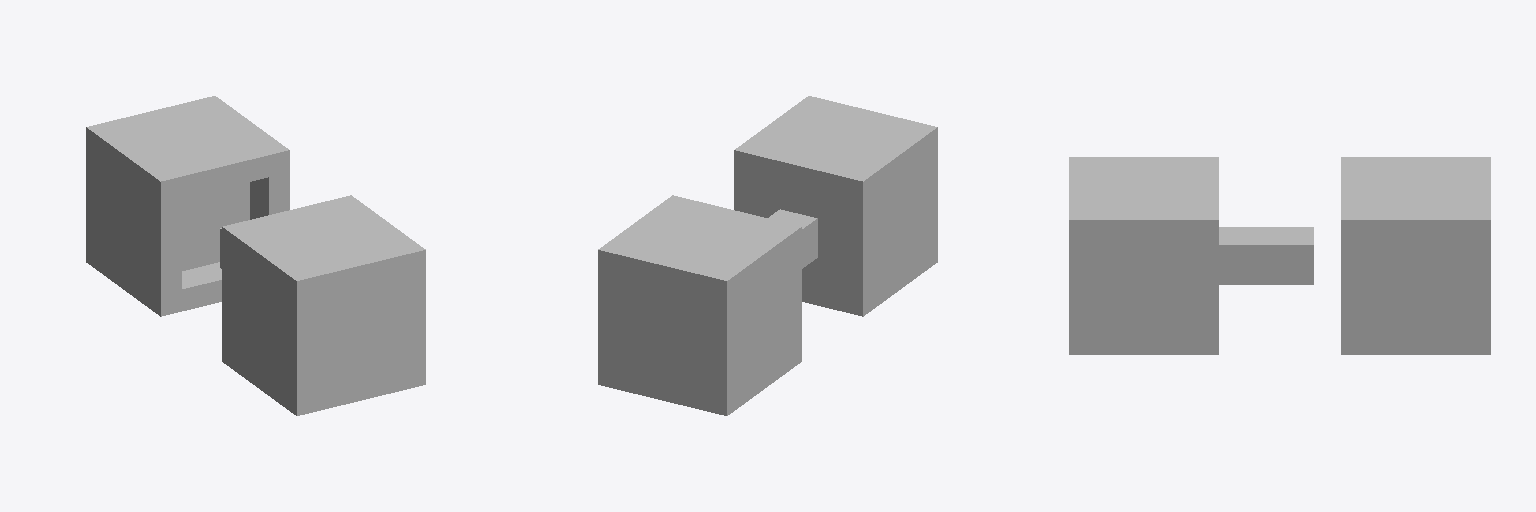
Rendered from DoubleMesh.obj.
The picture shows the model from 3 angles: view 1: azimuth 30°, elevation 25°; view 2: azimuth 150°, elevation 25°; view 3: azimuth 270°, elevation 25°; orthographic projection.
Parts seen in each view (by area): view 1: Cube_Cube.001, Cube.001_Cube.002; view 2: Cube.001_Cube.002, Cube_Cube.001; view 3: Cube_Cube.001, Cube.001_Cube.002.
Part boxes in pixels (bbox=[...]): Cube_Cube.001: bbox=[220, 195, 425, 415]; Cube.001_Cube.002: bbox=[86, 96, 289, 316]; Cube.001_Cube.002: bbox=[598, 195, 801, 415]; Cube_Cube.001: bbox=[734, 96, 937, 316]; Cube_Cube.001: bbox=[1069, 157, 1313, 354]; Cube.001_Cube.002: bbox=[1341, 157, 1490, 354].
Bounding box in the file's own units: 2 × 2 × 5.65.